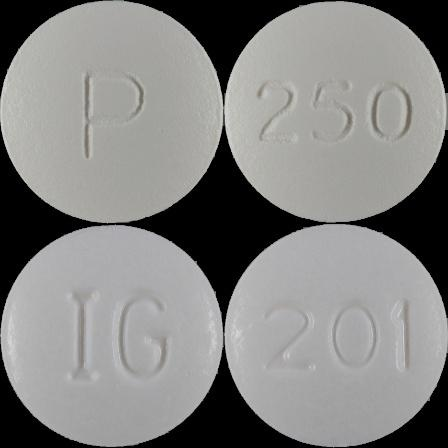50436-3135: (0, 0, 224, 224)
